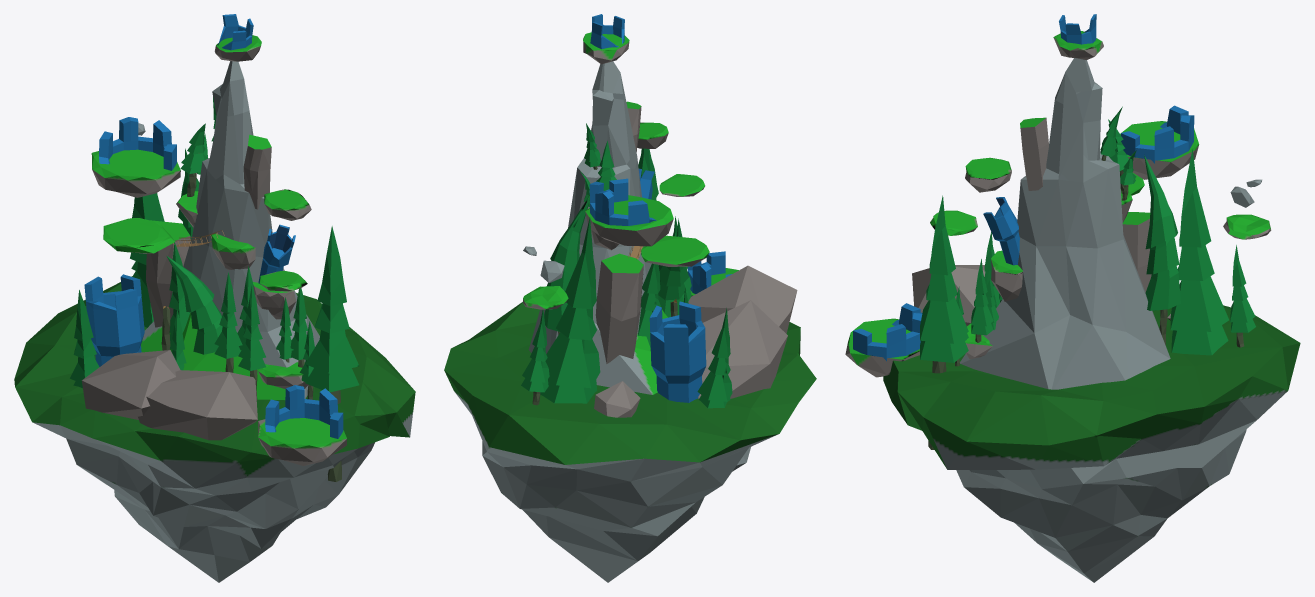
Rendered from IsleC.glb.
3 renders of one model, left to right at view 1: azimuth 30°, elevation 25°; view 2: azimuth 150°, elevation 25°; view 3: azimuth 270°, elevation 25°, orthographic. The views are drawn at different scales.
Parts seen in each view (by area): view 1: Icosphere; view 2: Icosphere; view 3: Icosphere.
Part boxes in pixels (x1,y1,x2,y2): Icosphere: (14,14,415,582); Icosphere: (444,14,816,582); Icosphere: (845,14,1300,582).
Size of the model in its own units: 76.37 by 127 by 91.78.
1 material, 1 textured.
